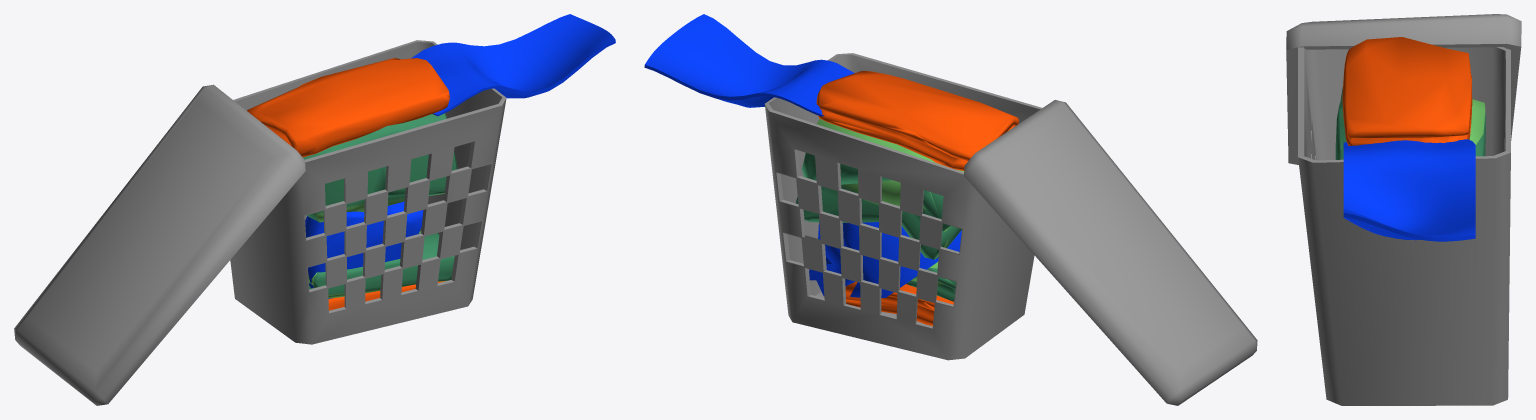
Rendered from BathroomLaundryBasket.FBX.
3 renders of one model, left to right at view 1: azimuth 30°, elevation 25°; view 2: azimuth 150°, elevation 25°; view 3: azimuth 270°, elevation 25°, orthographic. The views are drawn at different scales.
Parts seen in each view (by area): view 1: LaundryBasket; view 2: LaundryBasket; view 3: LaundryBasket.
Boxes of the visible parts, bbox=[...] form: LaundryBasket: bbox=[14, 14, 615, 405]; LaundryBasket: bbox=[644, 14, 1257, 405]; LaundryBasket: bbox=[1286, 14, 1521, 405].
Size of what is drawn, in the model's own units: 6.22 by 2.41 by 1.82.
